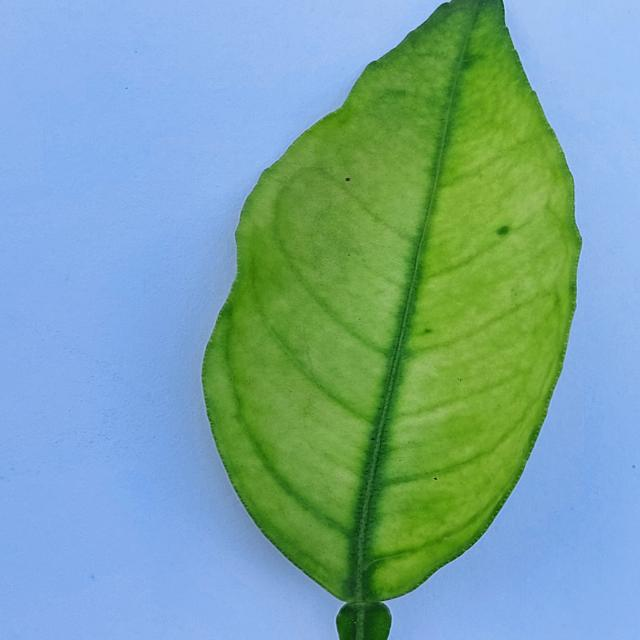greening: (203, 0, 580, 640)
